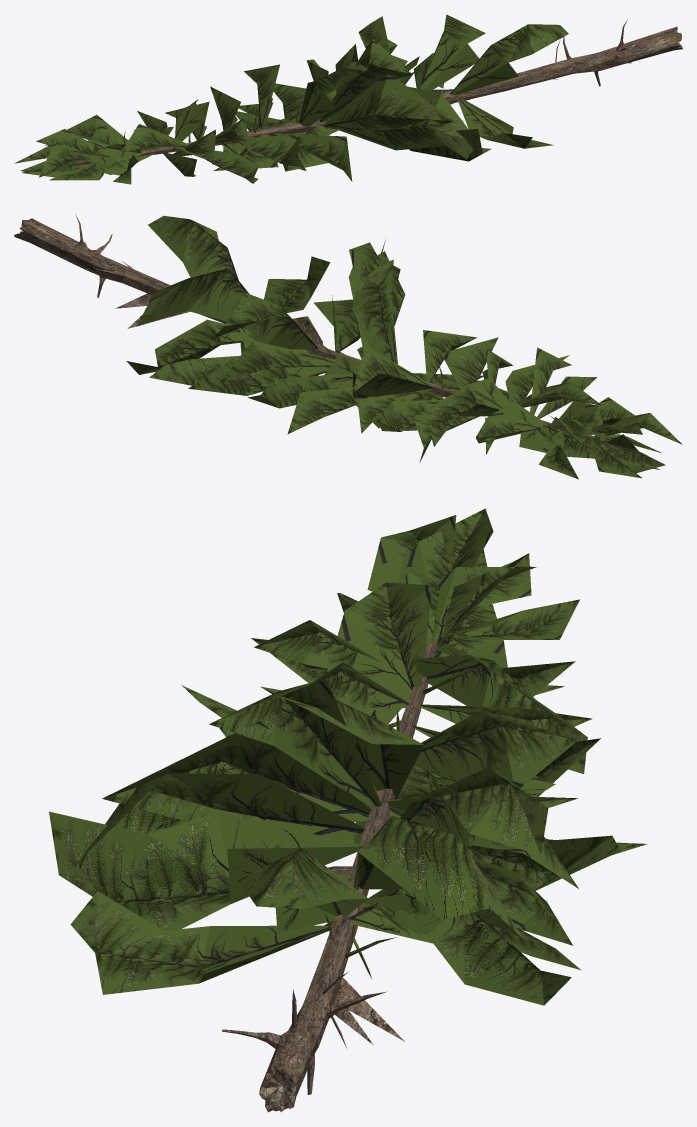
The model's file is spruce_5.dae.
3 views of the same model, one above another, from view 1: azimuth 30°, elevation 25°; view 2: azimuth 150°, elevation 25°; view 3: azimuth 270°, elevation 25° (orthographic). The views are drawn at different scales.
Visible parts, largest first — view 1: Mesh_Object; view 2: Mesh_Object; view 3: Mesh_Object.
Part boxes in pixels (x1=…): Mesh_Object: x1=14, y1=14, x2=682, y2=184; Mesh_Object: x1=14, y1=214, x2=682, y2=479; Mesh_Object: x1=49, y1=508, x2=647, y2=1112.
Size of the model in its own units: 11.3 by 1.97 by 4.76.
